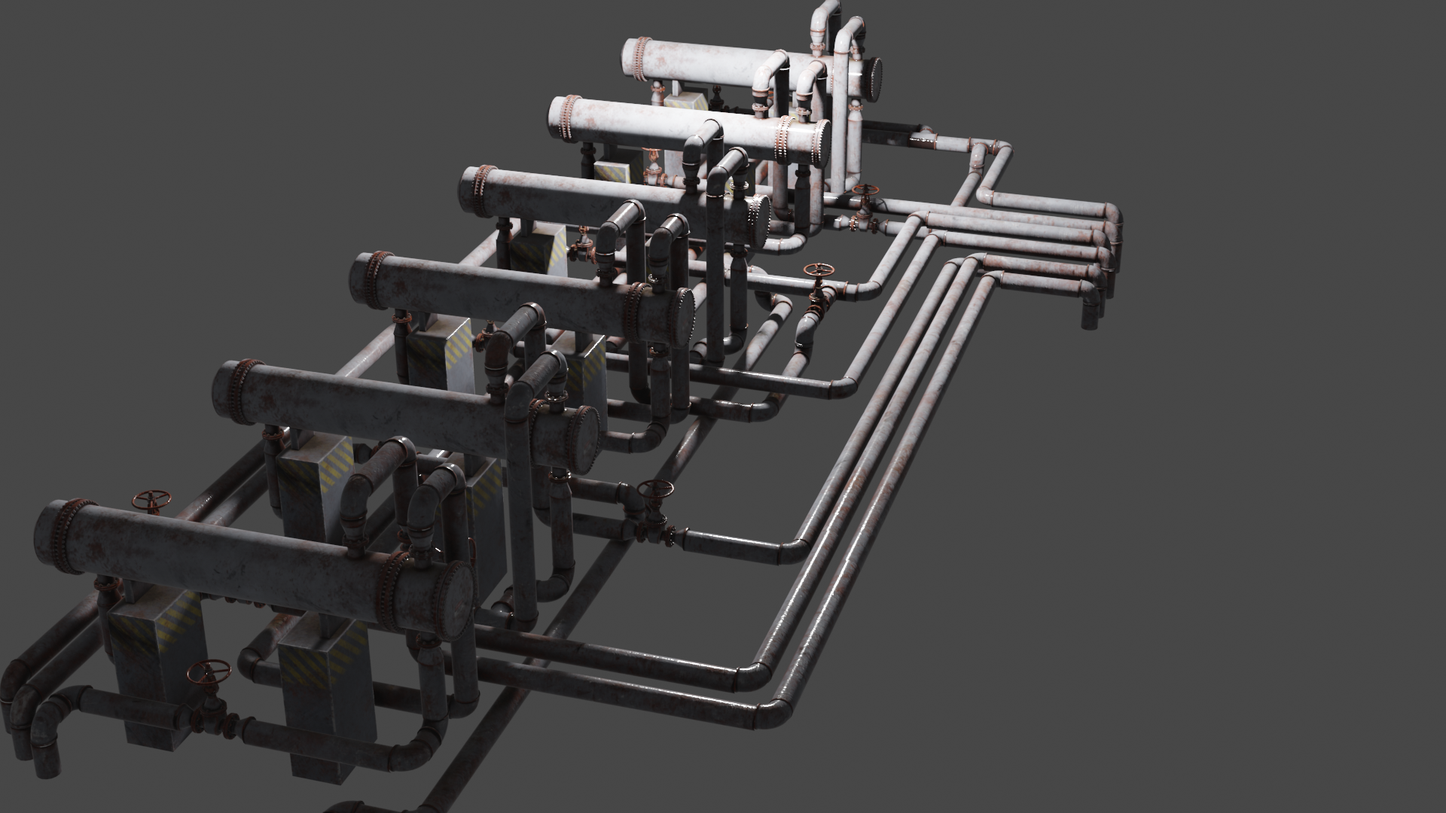HE_1: (28, 497, 475, 646)
HE_2: (206, 358, 605, 474)
HE_3: (344, 247, 695, 344)
HE_4: (451, 162, 773, 242)
HE_5: (546, 93, 829, 161)
HE_6: (614, 36, 886, 105)
